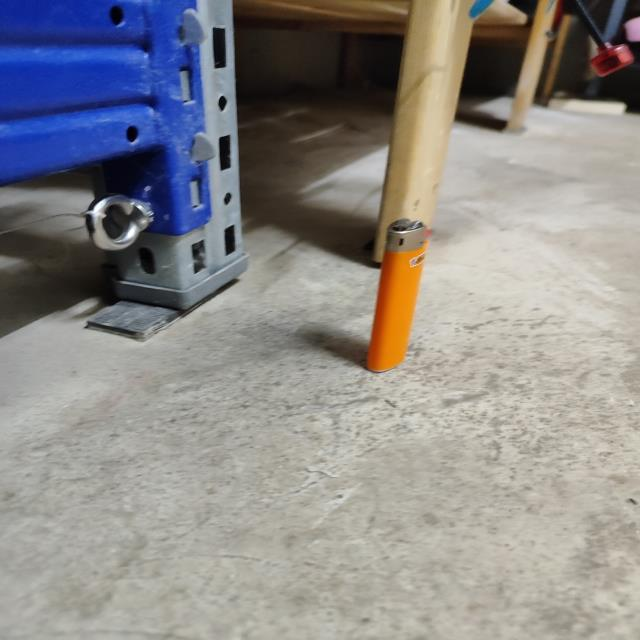lighter: (367, 220, 428, 372)
